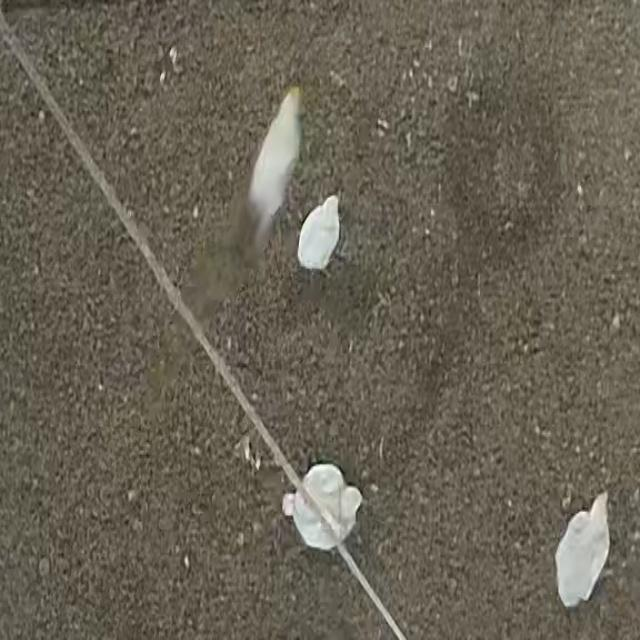chicken: (255, 78, 304, 237), (279, 458, 365, 544), (558, 491, 615, 611), (299, 191, 340, 270)
